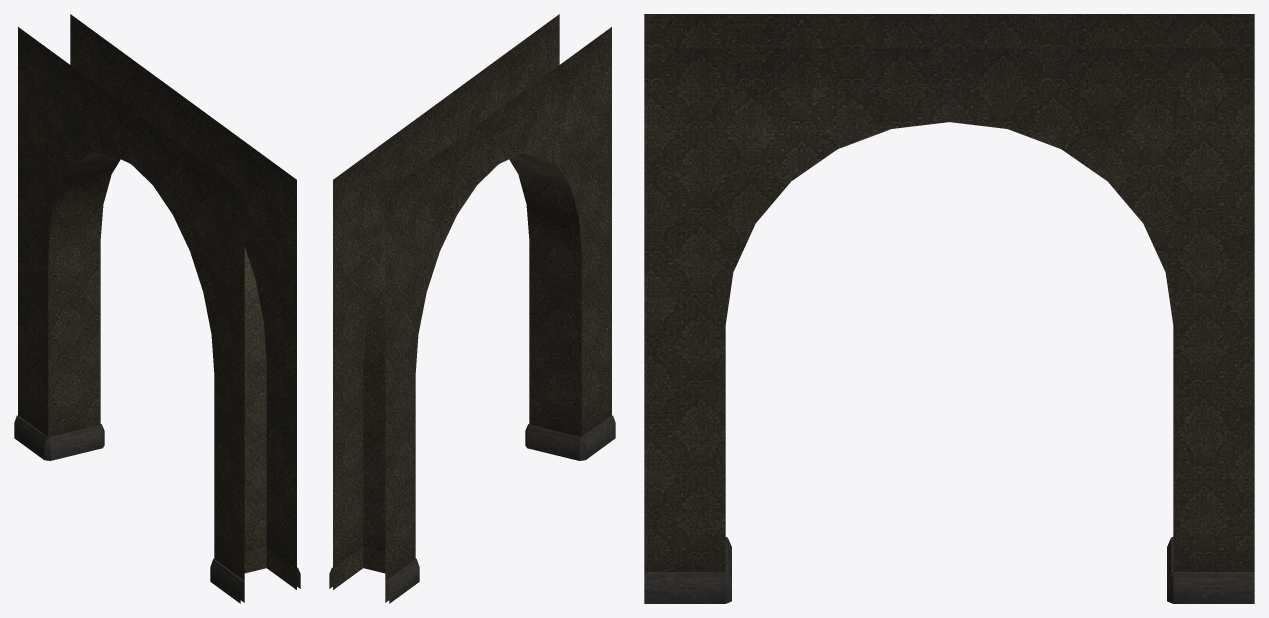
Rendered from arc_2_wall_2_2.glb.
3 renders of one model, left to right at view 1: azimuth 30°, elevation 25°; view 2: azimuth 150°, elevation 25°; view 3: azimuth 270°, elevation 25°, orthographic. The views are drawn at different scales.
Visible parts, largest first — view 1: arc_2_wall_2_2; view 2: arc_2_wall_2_2; view 3: arc_2_wall_2_2.
Part boxes in pixels (x1,y1,x2,y2): arc_2_wall_2_2: (14,14,300,603); arc_2_wall_2_2: (329,14,615,603); arc_2_wall_2_2: (644,14,1254,603).
Size of the model in its own units: 0.46 by 3 by 3.
Materials: 2 (2 with a texture image).
